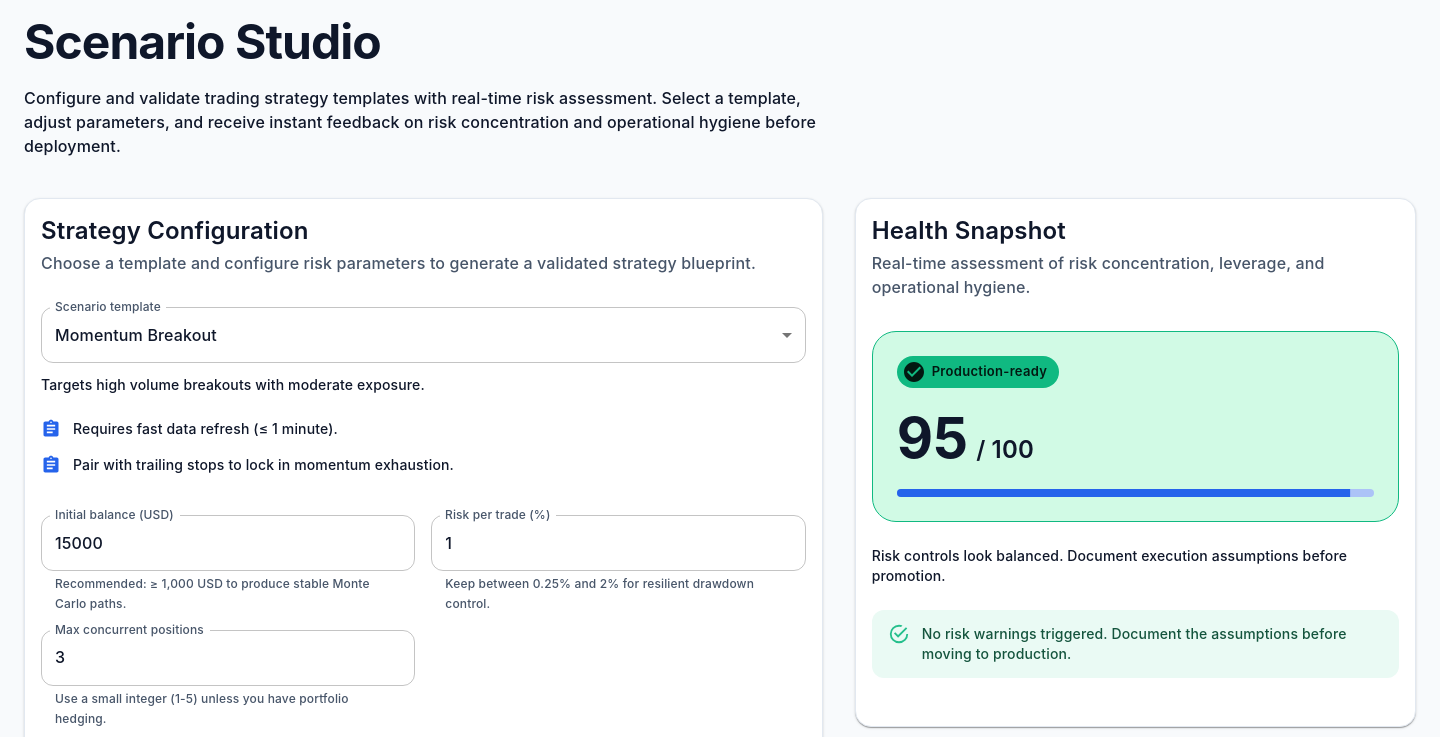
Scenario Studio home page › switching templates resets form values to the selected defaults
Select "Mean Reversion Swing" in the dropdown with test id "template-select" at {"x": 423, "y": 335}, box [41,307,806,363]
(page scrolled)
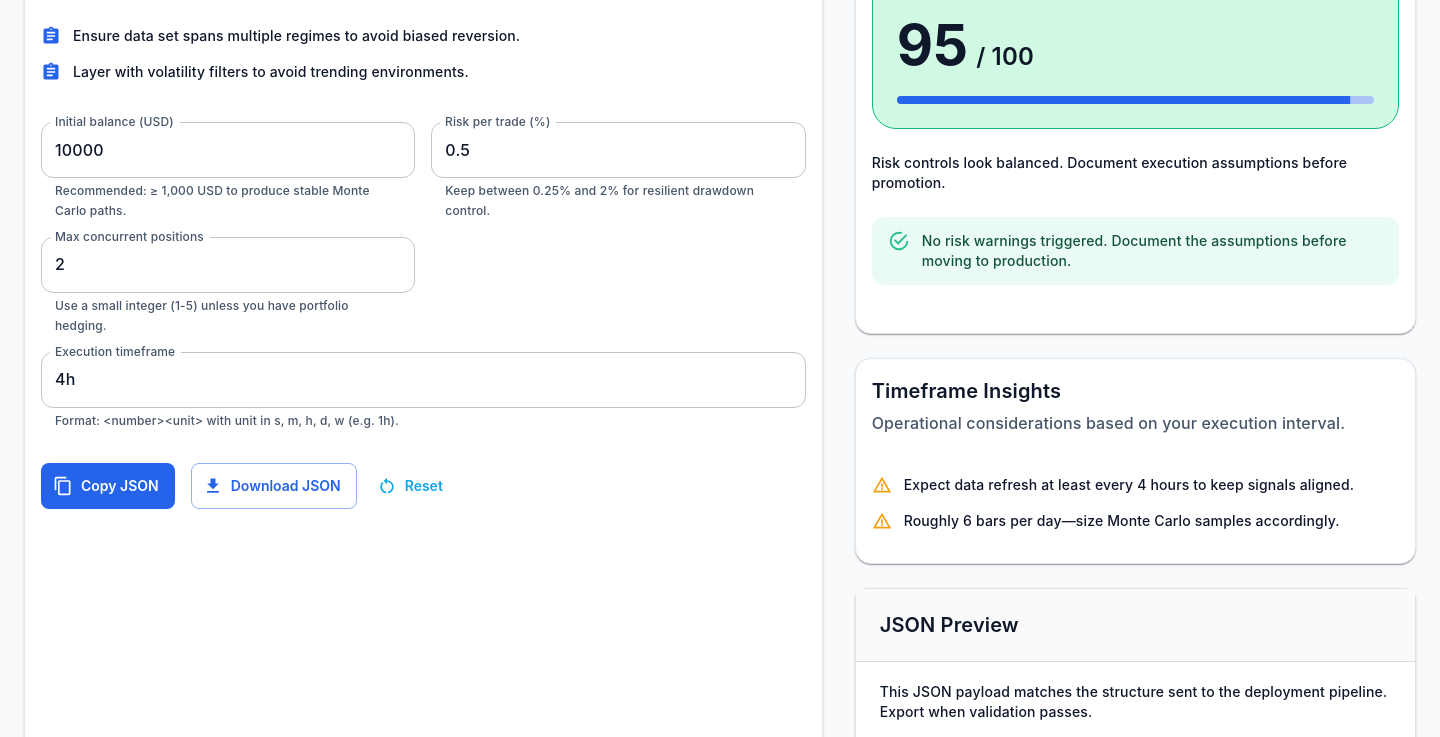
Expected: the field with test id "input-timeframe" holds "4h"
Replace the text in the field with test id "input-timeframe" with "2h" at {"x": 423, "y": 380}, box [41,352,806,408]
(page scrolled)
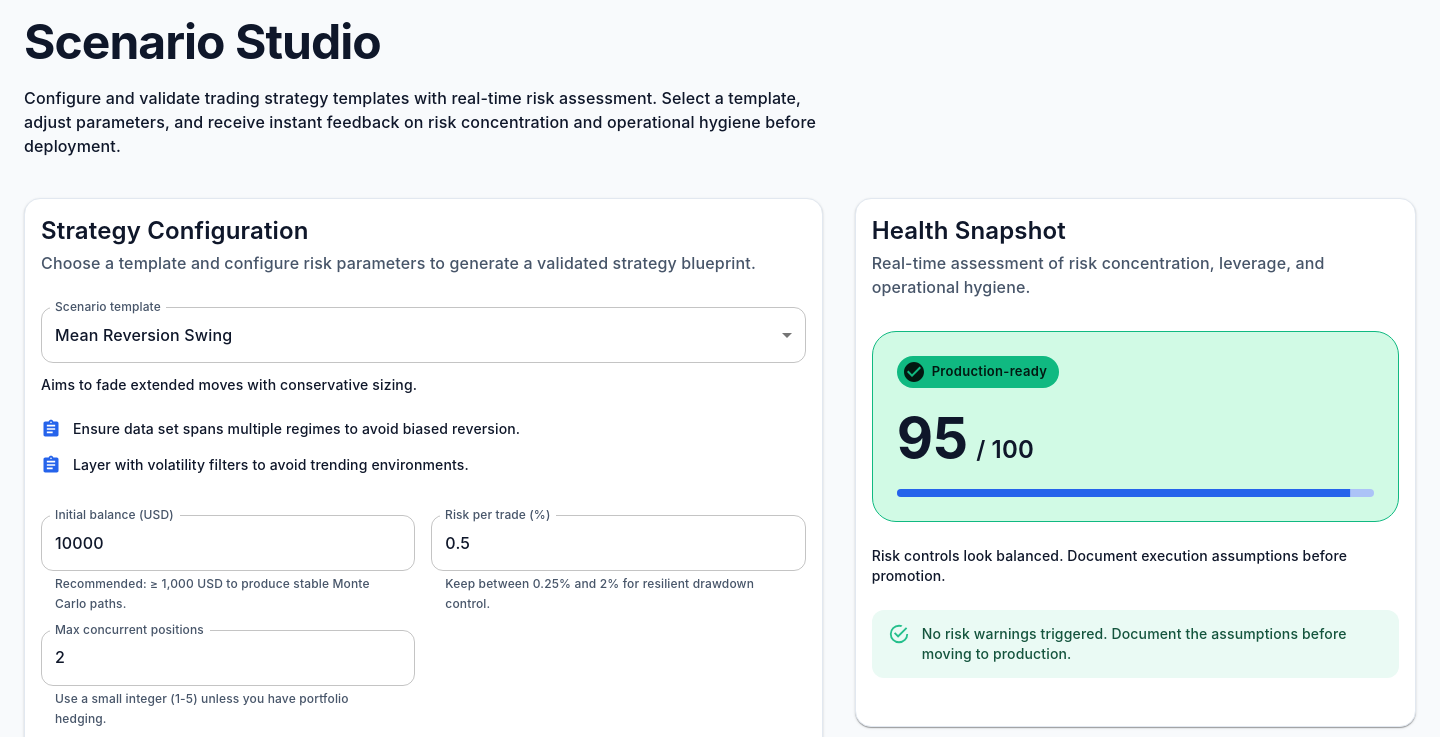
Select "Momentum Breakout" in the dropdown with test id "template-select" at {"x": 423, "y": 335}, box [41,307,806,363]
(page scrolled)
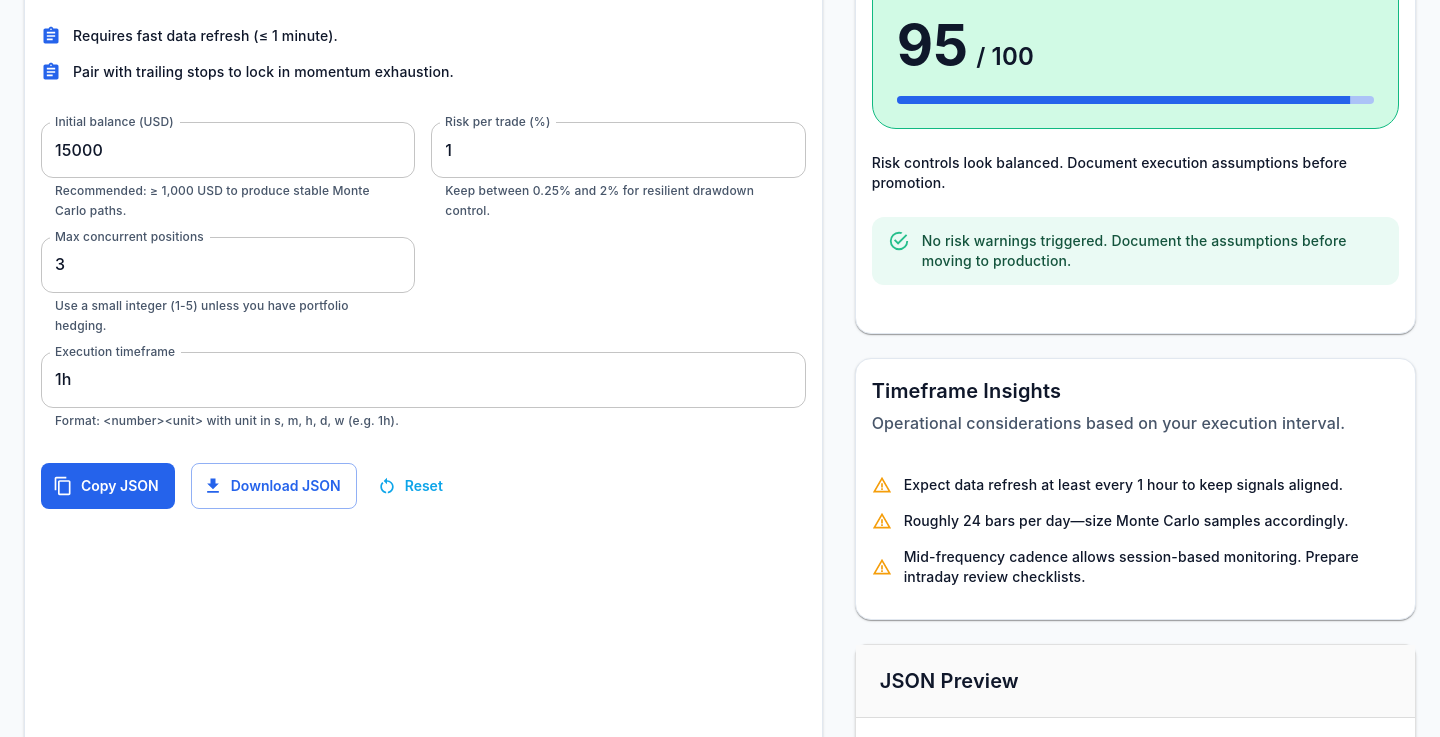
Expected: the field with test id "input-timeframe" holds "1h", [41,352,806,408]
